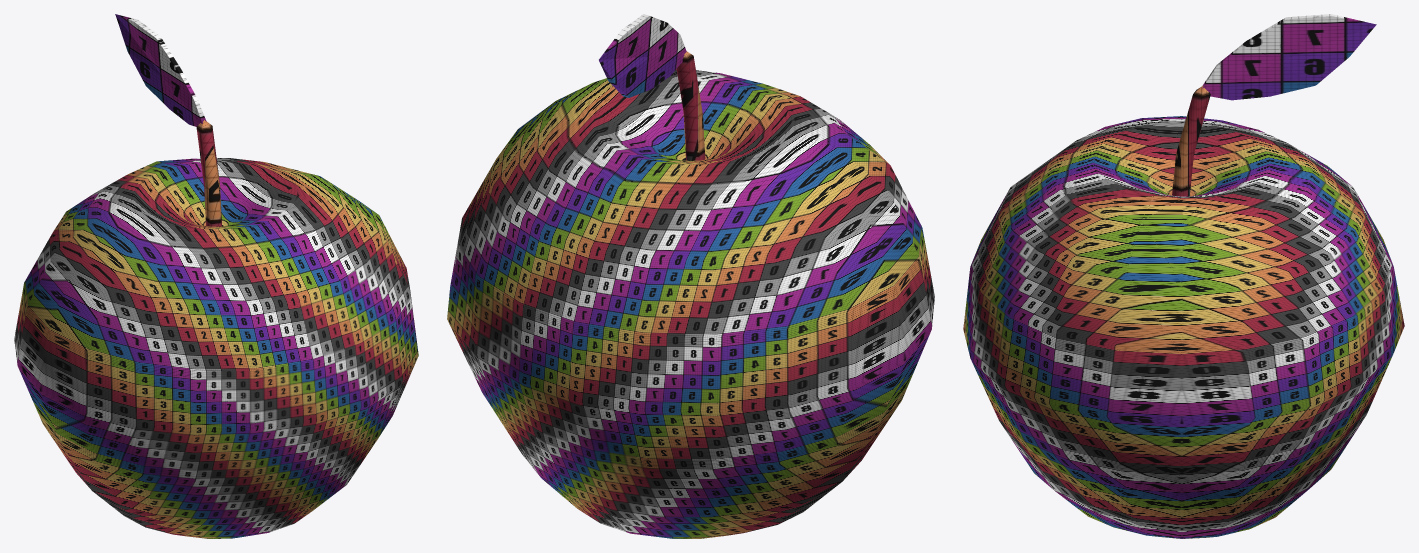
File: apple.FBX
3 views of the same model, side by side, from view 1: azimuth 30°, elevation 25°; view 2: azimuth 150°, elevation 25°; view 3: azimuth 270°, elevation 25° (orthographic). The views are drawn at different scales.
Parts seen in each view (by area): view 1: apple; view 2: apple; view 3: apple.
Part boxes in pixels (left/top/right/bottom): apple: left=14, top=14, right=418, bottom=538; apple: left=447, top=14, right=934, bottom=538; apple: left=963, top=14, right=1404, bottom=538.
Bounding box in the file's own units: 10.7 × 12.94 × 10.61.
